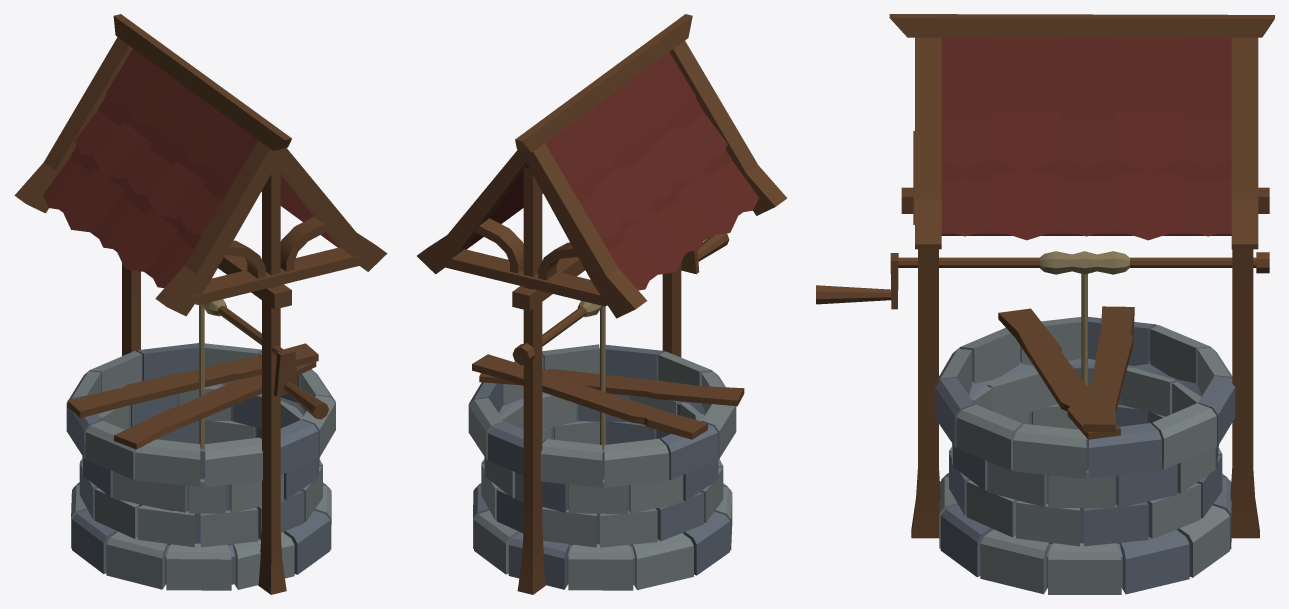
The model's file is well.glb.
3 views of the same model, side by side, from view 1: azimuth 30°, elevation 25°; view 2: azimuth 150°, elevation 25°; view 3: azimuth 270°, elevation 25° (orthographic). The views are drawn at different scales.
Parts seen in each view (by area): view 1: Well; view 2: Well; view 3: Well.
Part boxes in pixels (box(x1,y1,x2,y2)): Well: box(14, 14, 387, 594); Well: box(417, 14, 787, 594); Well: box(816, 14, 1274, 594).
Size of the model in its own units: 0.6664 by 1.25 by 1.
Materials: 1 (1 with a texture image).
